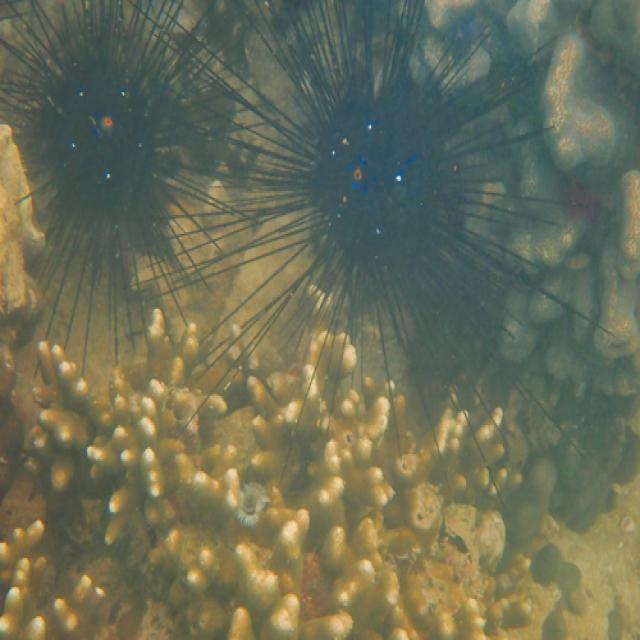Urchin: (187, 1, 619, 496), (1, 2, 273, 379)
